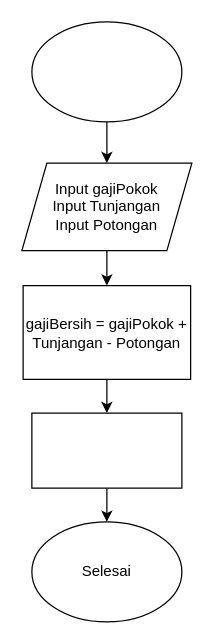
This 214x644 diagram has some shape labels left out. The shapes that lost their labels are listed below. From the top down, each one's centre as x and y in pixels, then its label:
pixel 106 71: Mulai
pixel 106 450: Print gajiBersih
